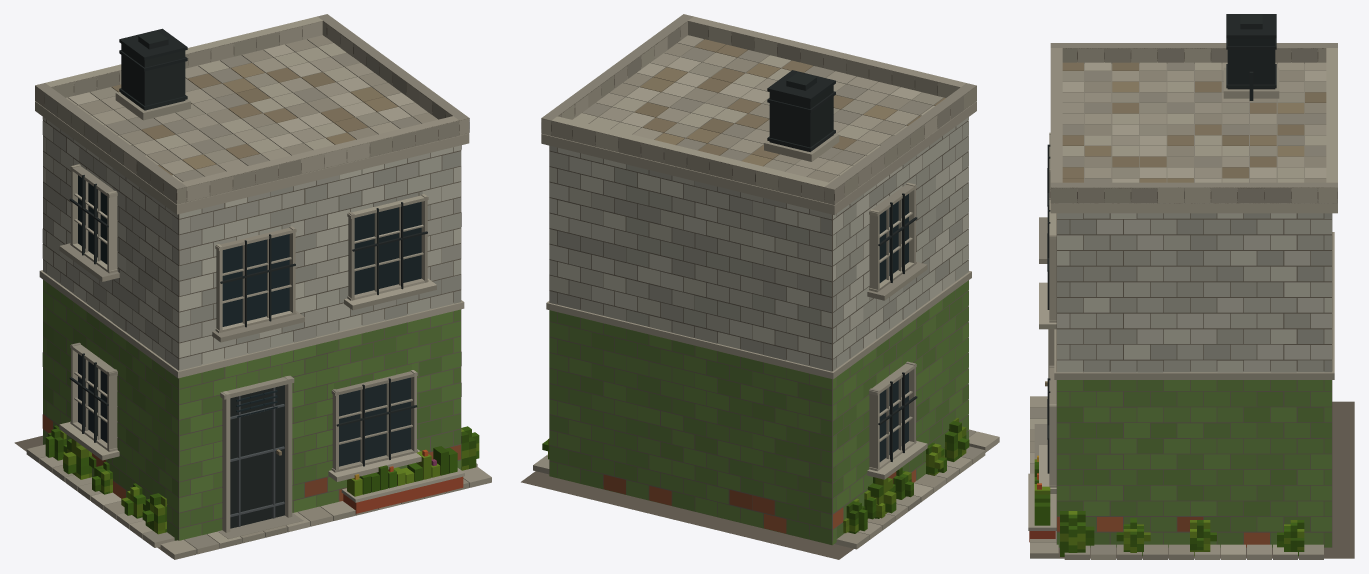
The model's file is SM_Mapa_070.fbx.
3 views of the same model, side by side, from view 1: azimuth 30°, elevation 25°; view 2: azimuth 150°, elevation 25°; view 3: azimuth 270°, elevation 25° (orthographic).
Visible parts, largest first — view 1: SM_Mapa_070; view 2: SM_Mapa_070; view 3: SM_Mapa_070.
Boxes of the visible parts, bbox=[...] form: SM_Mapa_070: bbox=[14, 14, 491, 559]; SM_Mapa_070: bbox=[521, 14, 999, 559]; SM_Mapa_070: bbox=[1028, 14, 1354, 559].
Bounding box in the file's own units: 8 × 6.84 × 9.85.
